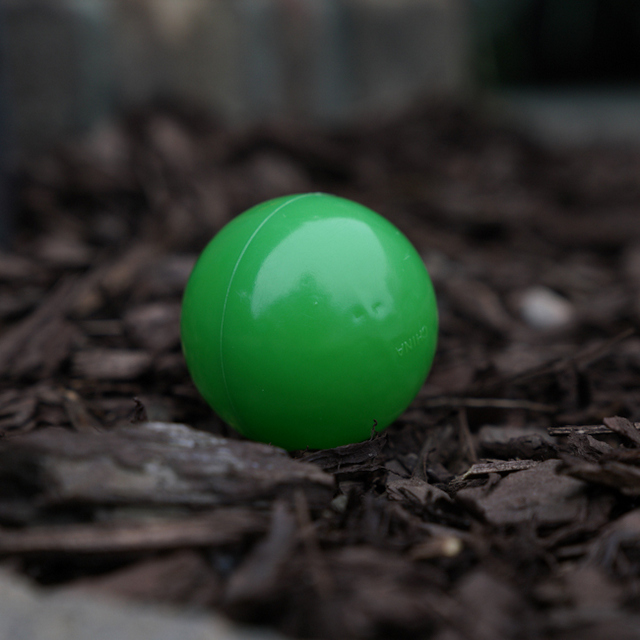Ball: (179, 192, 434, 445)
